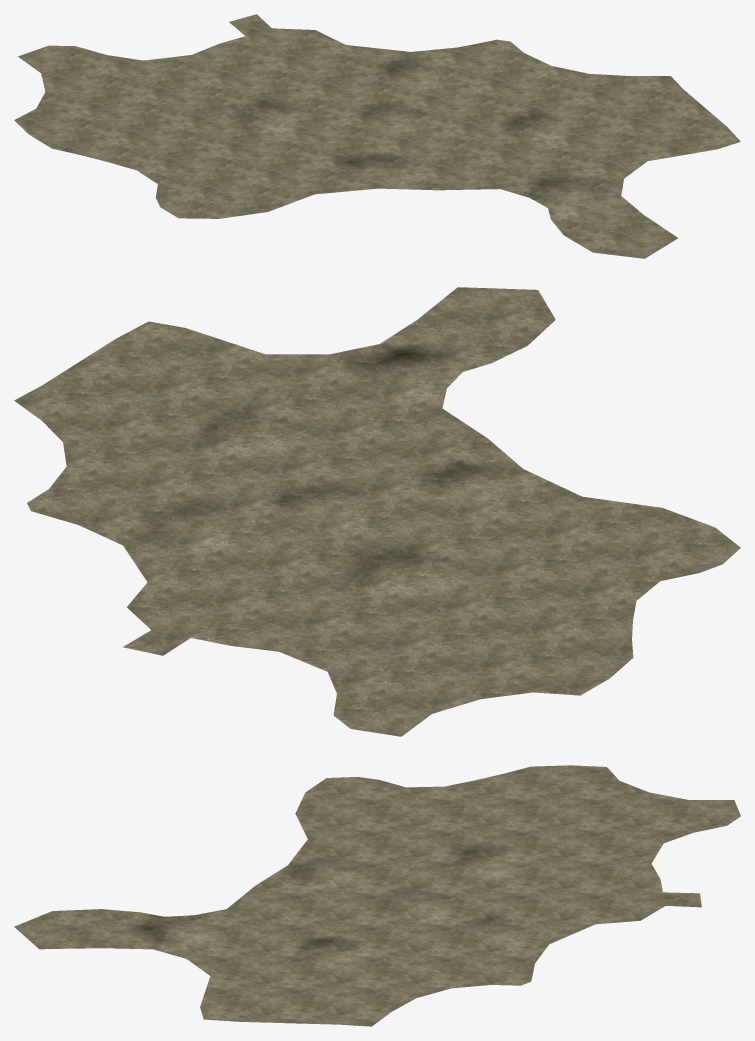
File: EKH_JAIL_PS_JA_OUIB_FLOOR939838.fbx
The picture shows the model from 3 angles, top to bottom: view 1: azimuth 30°, elevation 25°; view 2: azimuth 150°, elevation 25°; view 3: azimuth 270°, elevation 25°; orthographic projection. The views are drawn at different scales.
Parts seen in each view (by area): view 1: EKH_JAIL_PS_JA_OUIB_FLOOR939838; view 2: EKH_JAIL_PS_JA_OUIB_FLOOR939838; view 3: EKH_JAIL_PS_JA_OUIB_FLOOR939838.
Part boxes in pixels (<box>): EKH_JAIL_PS_JA_OUIB_FLOOR939838: <box>14,14,740,258</box>; EKH_JAIL_PS_JA_OUIB_FLOOR939838: <box>14,287,740,736</box>; EKH_JAIL_PS_JA_OUIB_FLOOR939838: <box>14,765,740,1026</box>.
Bounding box in the file's own units: 165911 × 0.044 × 195072.
1 material, 1 textured.
